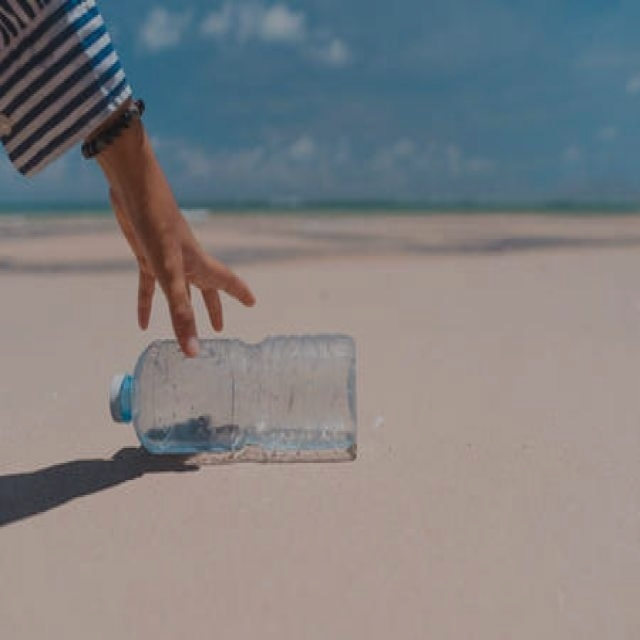Plastic-bottle: (100, 324, 366, 474)
